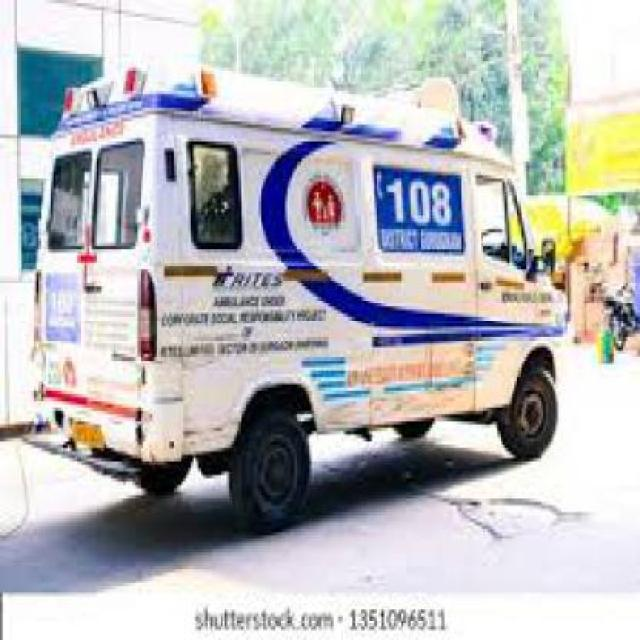Ambulance: (24, 67, 573, 508)
